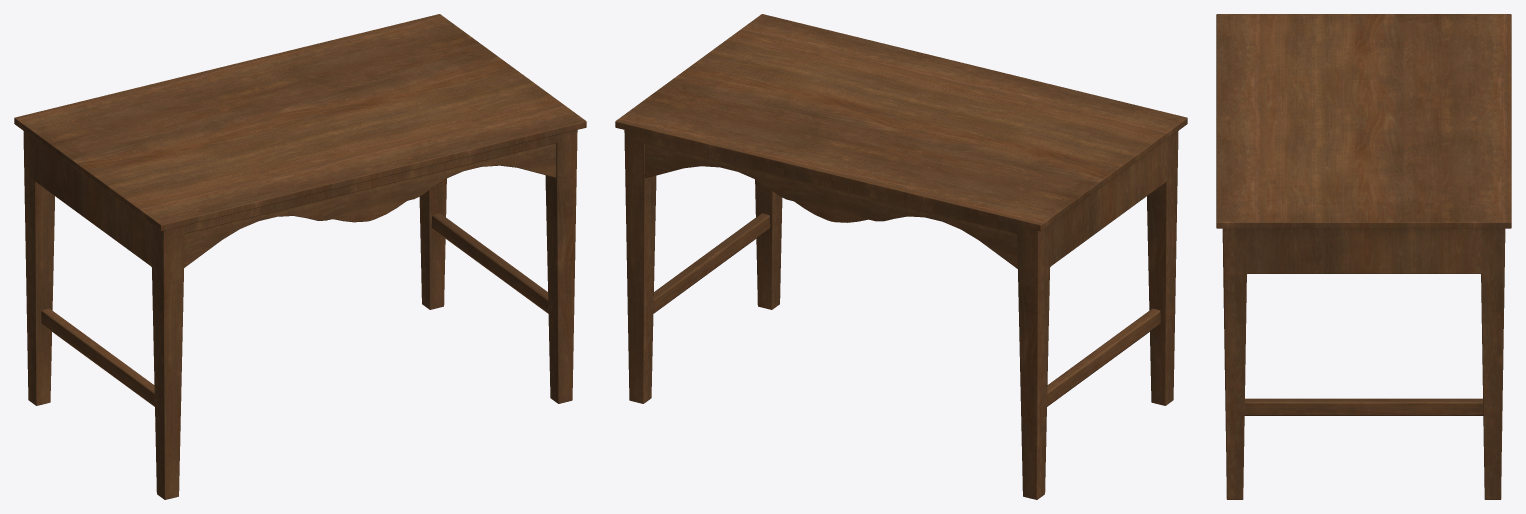
File: table.obj
3 views of the same model, side by side, from view 1: azimuth 30°, elevation 25°; view 2: azimuth 150°, elevation 25°; view 3: azimuth 270°, elevation 25° (orthographic).
Visible parts, largest first — view 1: old_table; view 2: old_table; view 3: old_table.
Part boxes in pixels (x1=…): old_table: x1=14, y1=14, x2=586, y2=499; old_table: x1=615, y1=14, x2=1187, y2=499; old_table: x1=1216, y1=14, x2=1511, y2=499.
Size of the model in its own units: 102 by 64.49 by 61.1.
